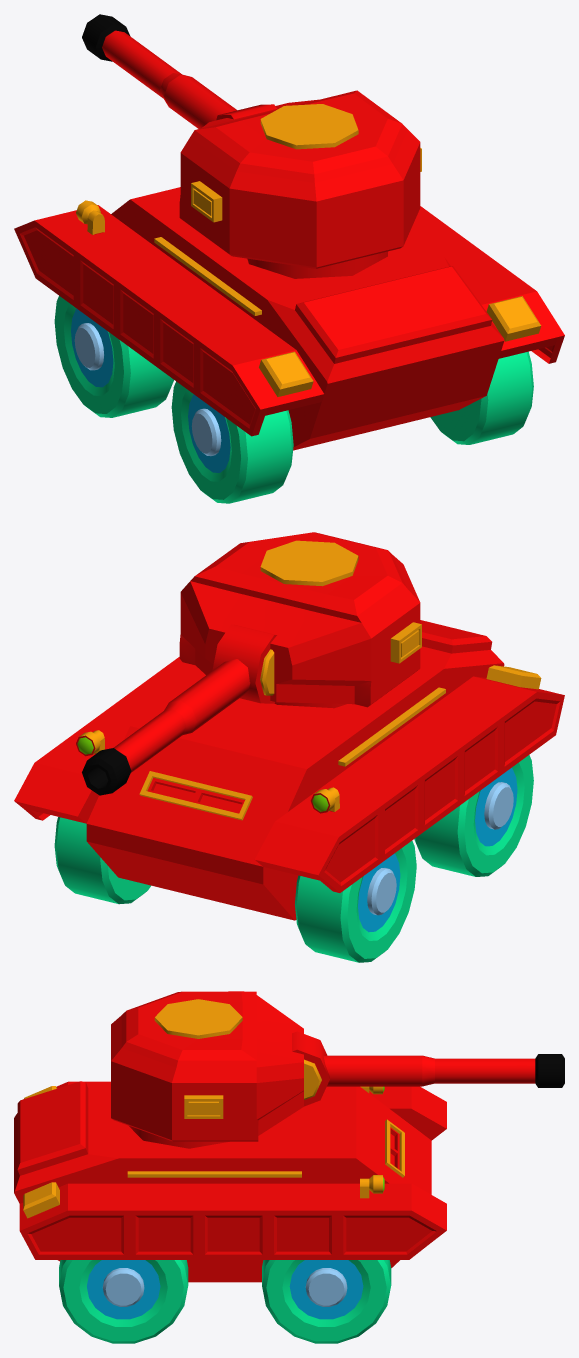
File: Carro Armato P43 Pesante.fbx
The picture shows the model from 3 angles, top to bottom: view 1: azimuth 30°, elevation 25°; view 2: azimuth 150°, elevation 25°; view 3: azimuth 270°, elevation 25°; orthographic projection. The views are drawn at different scales.
Visible parts, largest first — view 1: Body, WheelsGuard, Turret, Wheels (×3), Canon; view 2: Body, WheelsGuard, Turret, Wheels (×3), Canon, CanonPivotPoint; view 3: WheelsGuard, Body, Turret, Wheels (×2), Canon, CanonPivotPoint.
Boxes of the visible parts, bbox=[...] form: Body: bbox=[111, 187, 504, 450]; WheelsGuard: bbox=[14, 200, 564, 436]; Turret: bbox=[179, 90, 421, 268]; Wheels (×3): bbox=[54, 296, 533, 503]; Canon: bbox=[82, 14, 236, 128]; Body: bbox=[86, 620, 504, 920]; WheelsGuard: bbox=[14, 657, 564, 892]; Turret: bbox=[179, 532, 421, 707]; Wheels (×3): bbox=[54, 755, 533, 962]; Canon: bbox=[82, 659, 250, 795]; CanonPivotPoint: bbox=[212, 624, 276, 703]; WheelsGuard: bbox=[19, 1081, 446, 1259]; Body: bbox=[14, 1081, 431, 1282]; Turret: bbox=[111, 991, 303, 1141]; Wheels (×2): bbox=[59, 1260, 391, 1343]; Canon: bbox=[323, 1054, 564, 1087]; CanonPivotPoint: bbox=[292, 1031, 329, 1106].
Size of the model in its own units: 2.12 by 2.04 by 3.83.
